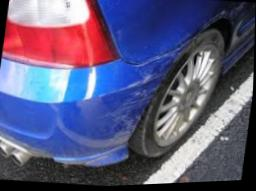Bumper: (96, 43, 189, 165)
